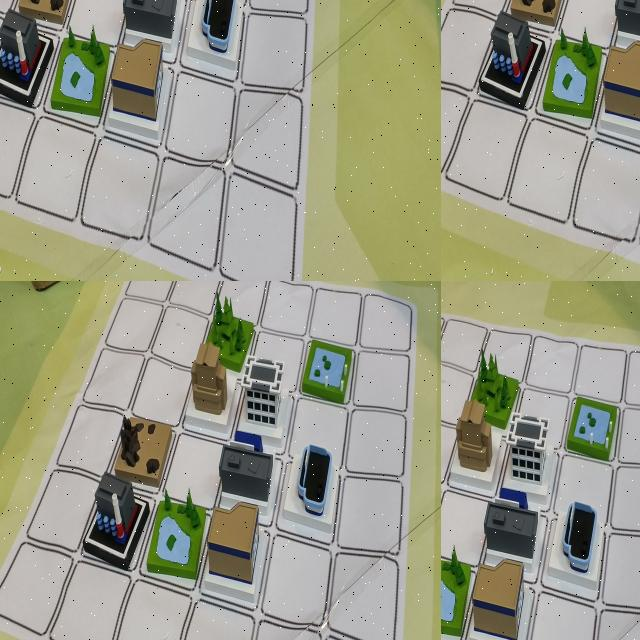bus_stop: (474, 483, 548, 562), (252, 351, 301, 433), (117, 0, 169, 43)
factory: (232, 175, 284, 273), (441, 530, 476, 634), (260, 286, 303, 369)
fish_pool: (277, 174, 332, 274), (564, 381, 627, 468), (308, 298, 352, 376)
forest: (472, 344, 528, 424), (106, 476, 156, 564), (510, 0, 574, 53), (0, 167, 29, 269)
gogo_shop: (65, 42, 127, 129), (556, 493, 610, 582), (211, 353, 255, 434)
research_build: (499, 402, 564, 502), (214, 100, 274, 194), (114, 392, 164, 479), (568, 0, 631, 54)
restaurant: (473, 545, 536, 640), (577, 0, 640, 85), (246, 418, 296, 506), (77, 0, 134, 45)
silicate_rock: (201, 483, 251, 572), (508, 0, 581, 51), (441, 453, 476, 540), (0, 157, 27, 263)
volunteer_center: (190, 171, 239, 272), (451, 396, 502, 486), (165, 348, 209, 423)
wet_land: (173, 283, 223, 360), (441, 541, 474, 640), (138, 0, 197, 48)
